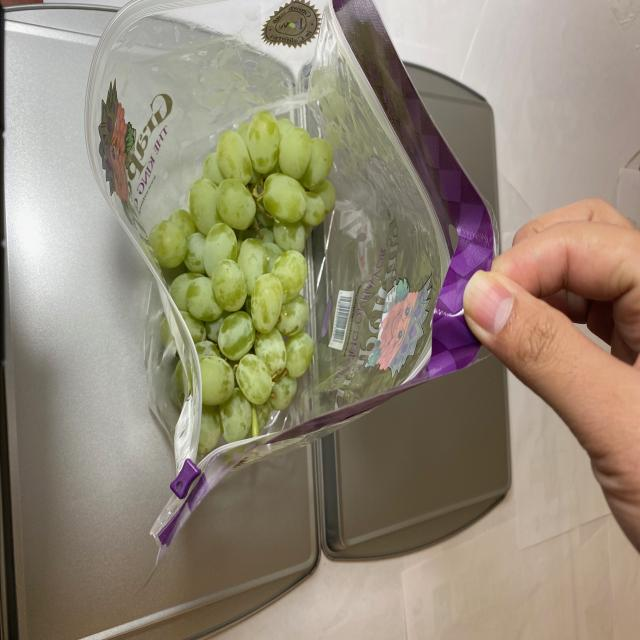grapes: (151, 109, 332, 471)
